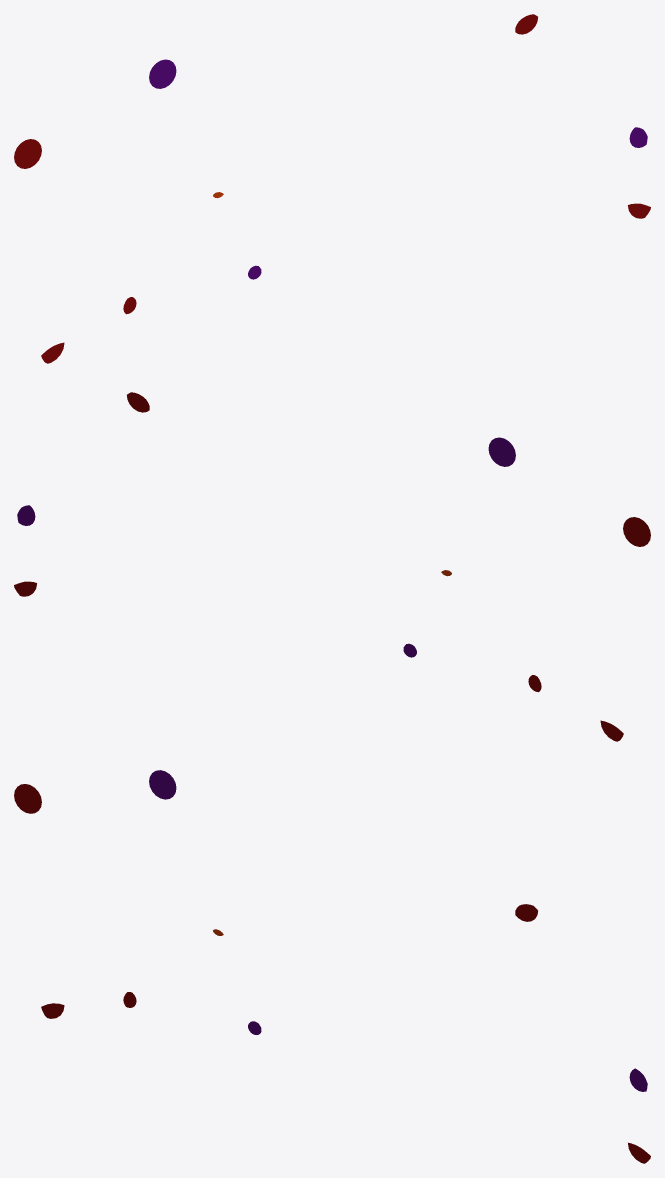
Rendered from Krant_Bubbles.fbx.
The picture shows the model from 3 angles, top to bottom: view 1: azimuth 30°, elevation 25°; view 2: azimuth 150°, elevation 25°; view 3: azimuth 330°, elevation 25°; orthographic projection.
Parts seen in each view (by area): view 1: CockpitBubbles; view 2: CockpitBubbles; view 3: CockpitBubbles.
Boxes of the visible parts, <box> form: CockpitBubbles: <box>14,14,650,363</box>; CockpitBubbles: <box>14,392,650,741</box>; CockpitBubbles: <box>14,770,650,1163</box>.
Bounding box in the file's own units: 33.77 × 13.96 × 3.29e-07.
